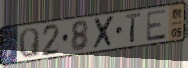2: (41, 23, 62, 57)
8: (70, 19, 90, 53)
E: (146, 8, 168, 43)
Q: (18, 27, 41, 60)
T: (125, 12, 142, 45)
X: (92, 14, 116, 51)
